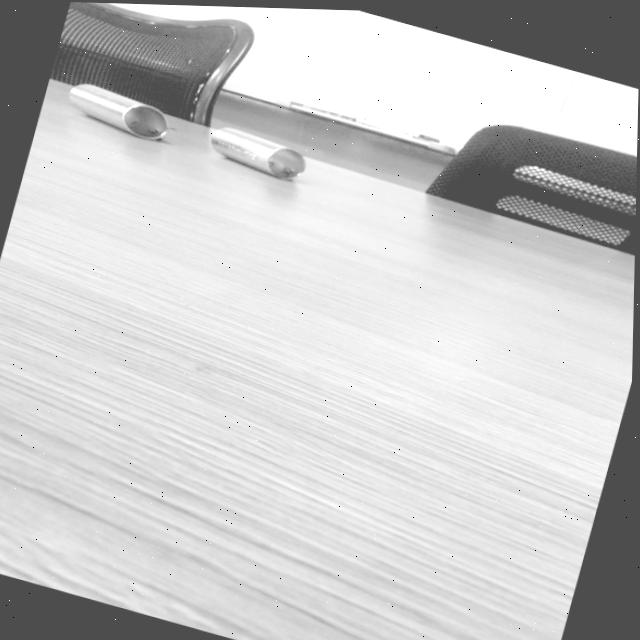Co_Lon: (63, 77, 172, 145)
Co_Nho: (205, 121, 309, 185)
